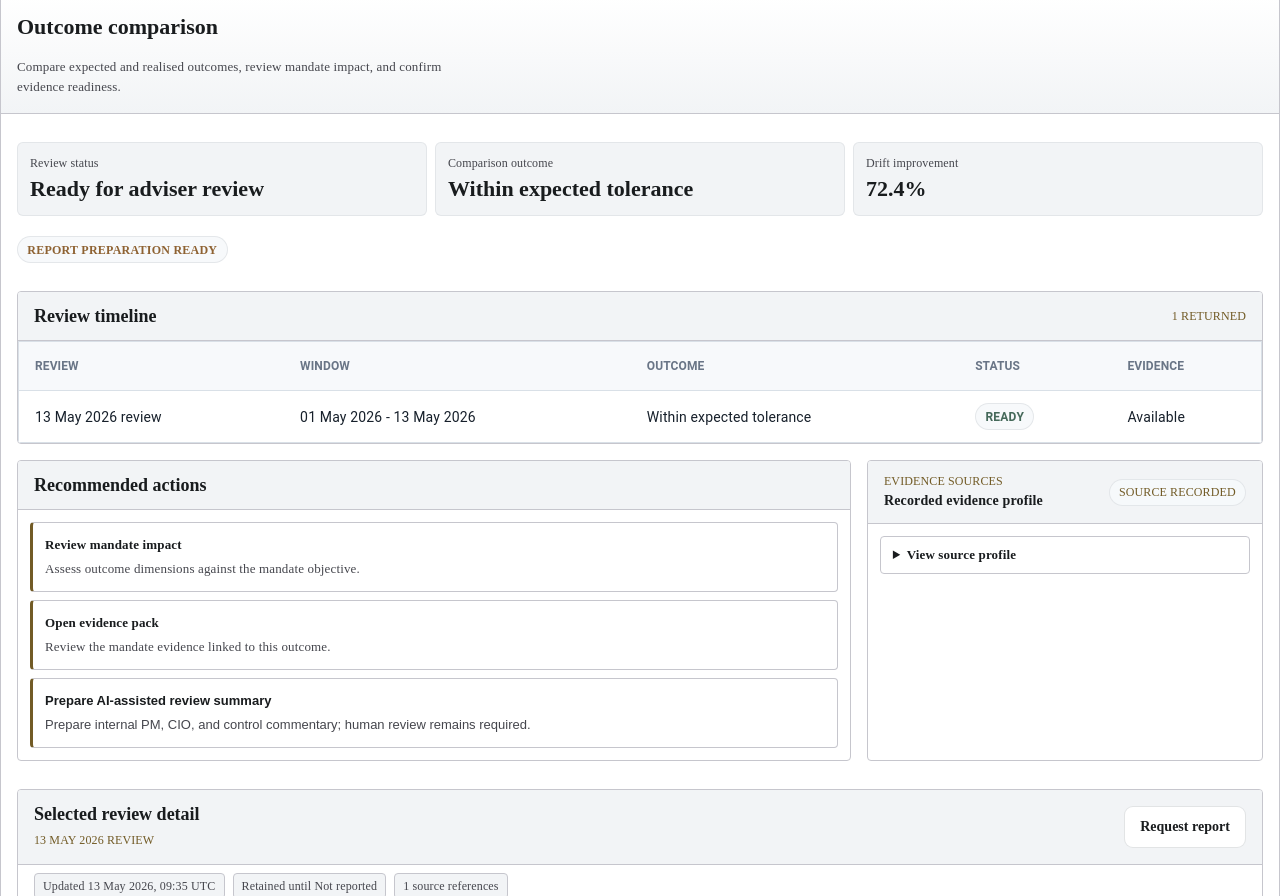
Test: OutcomeReviewPanel › requests an outcome-review report job from available report input
This screenshot has width=1280, height=896.
Click the button "Request report".
click(1185, 827)  # box [1124, 806, 1246, 848]
(page scrolled)
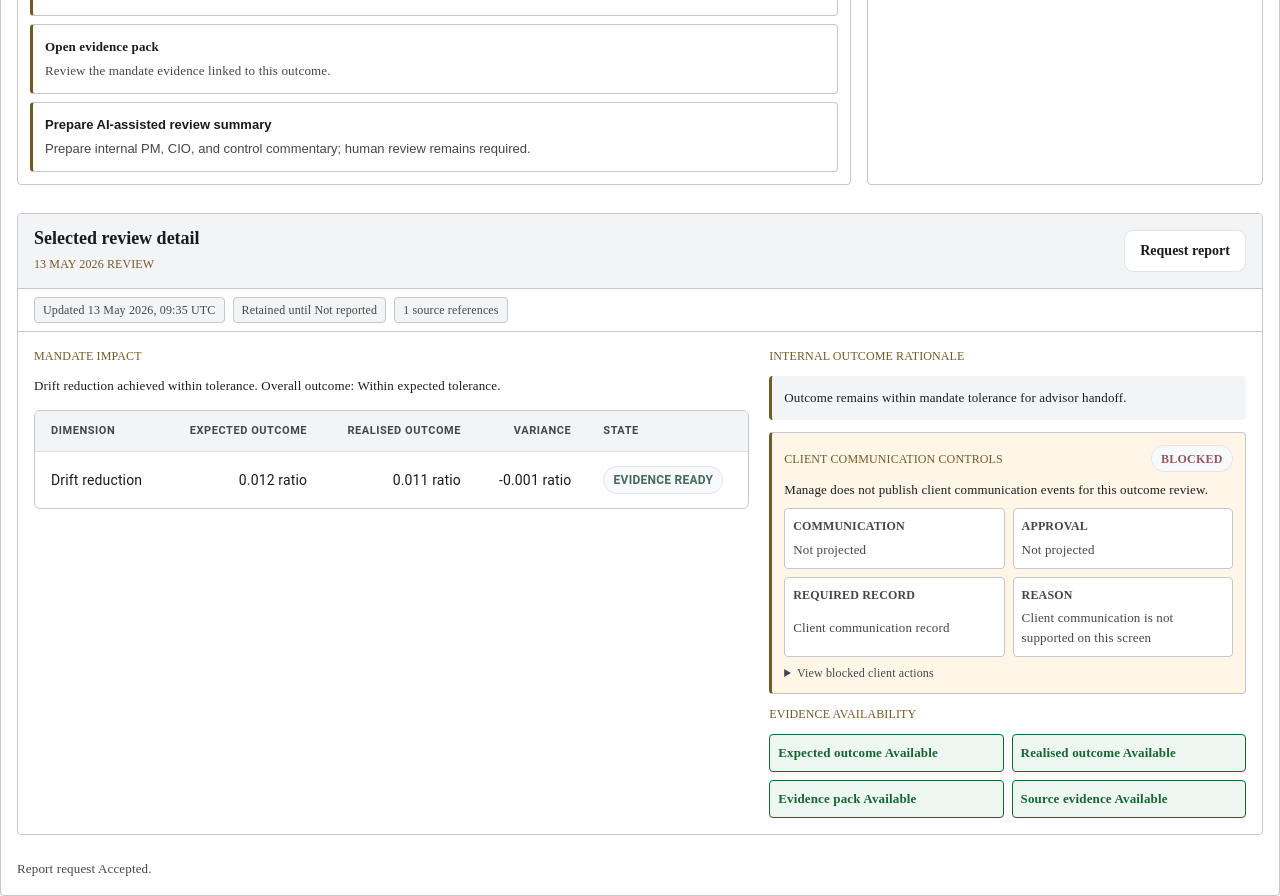
Expected: the element named "Client communication boundary" shows "Client communication record", [793, 620, 950, 635]
Expected: the text "Report request Accepted." is shown, [17, 861, 152, 876]
